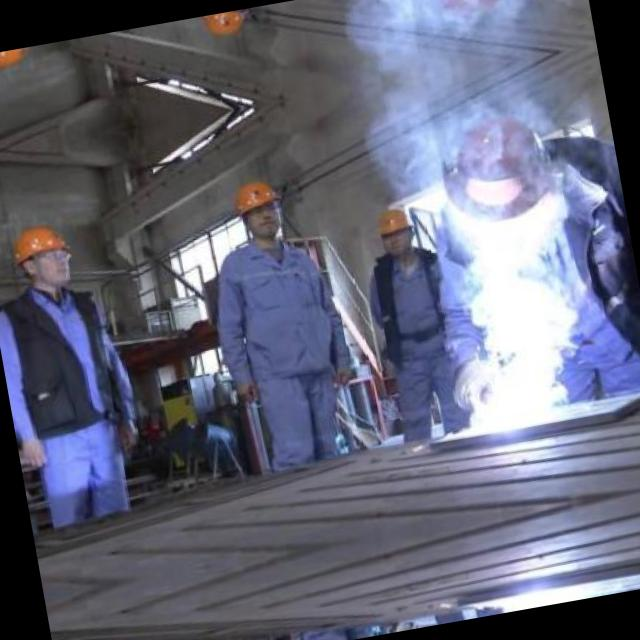helmet: (6, 214, 78, 296), (225, 168, 288, 244), (369, 198, 416, 262), (196, 8, 255, 48), (0, 45, 40, 78)
